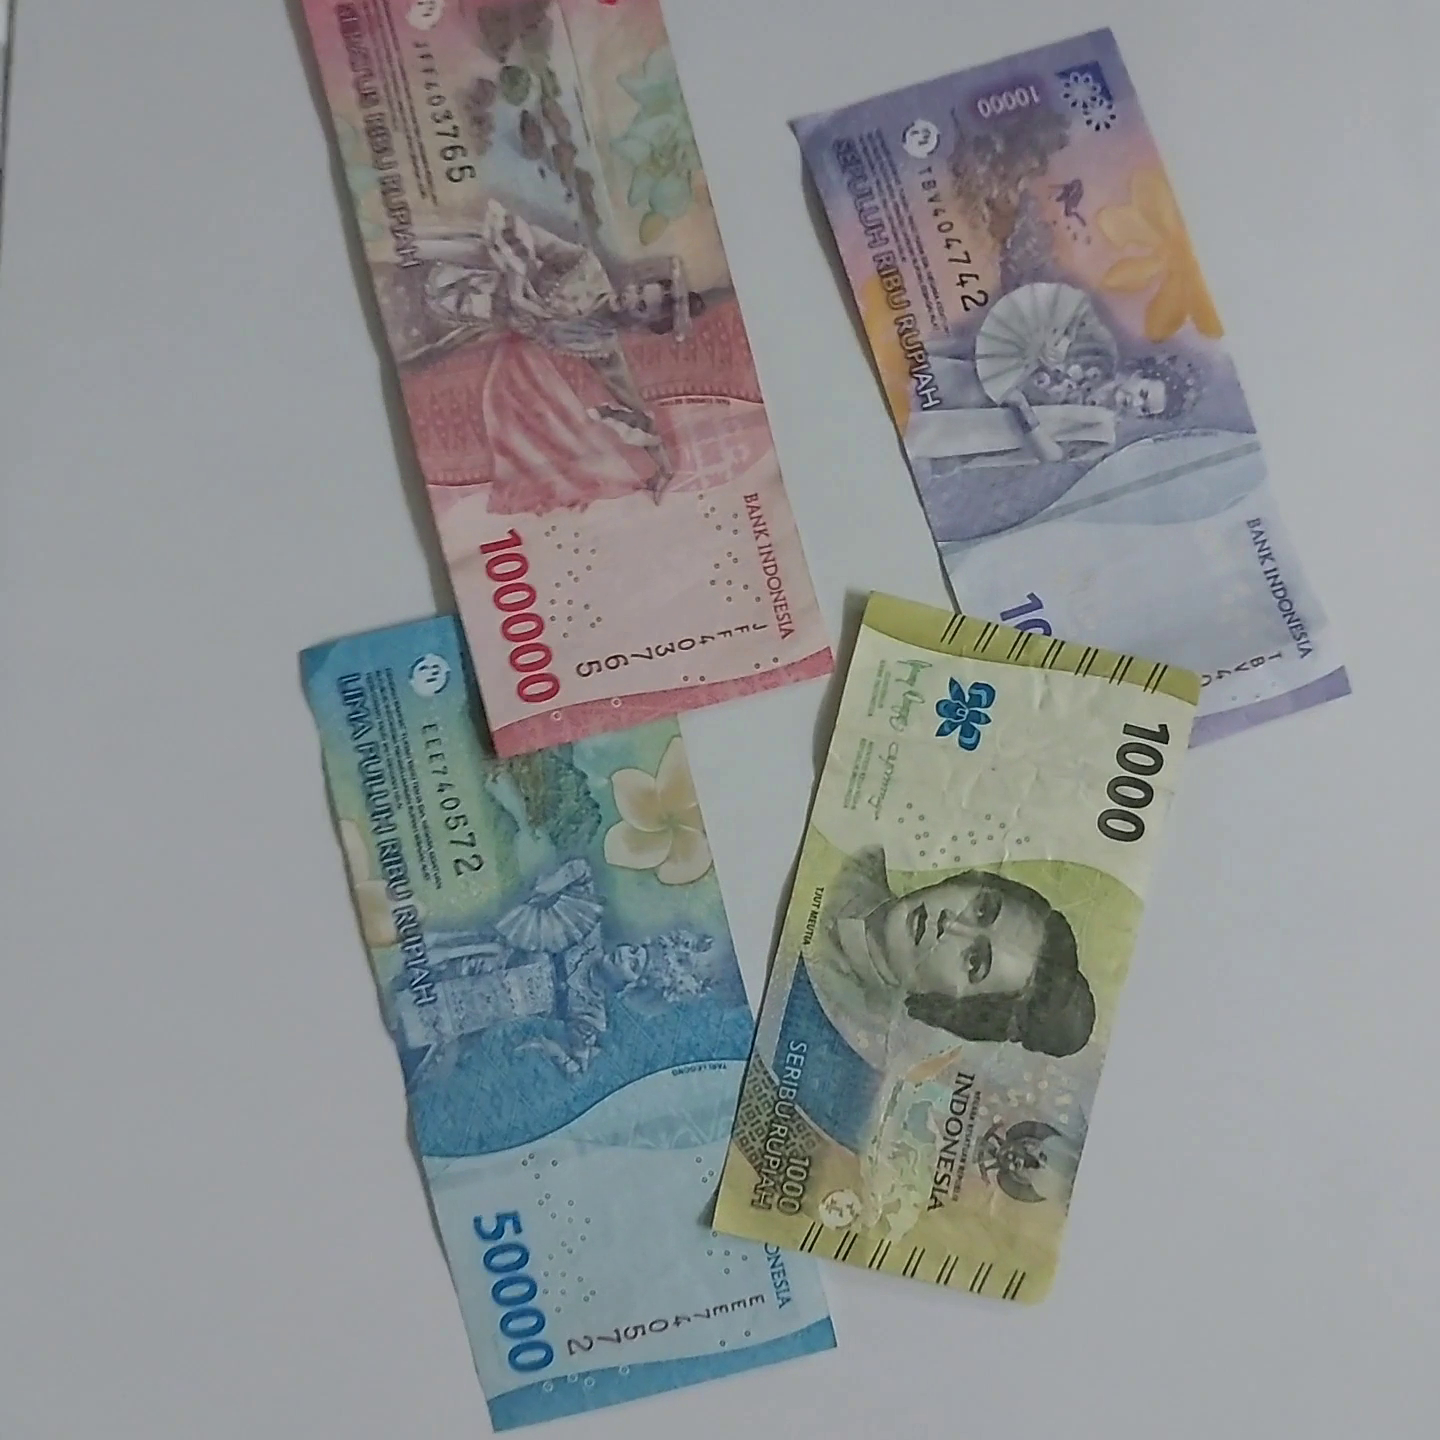100k: (301, 0, 858, 727)
1k: (873, 589, 1207, 1250)
50k: (153, 535, 855, 1440)
